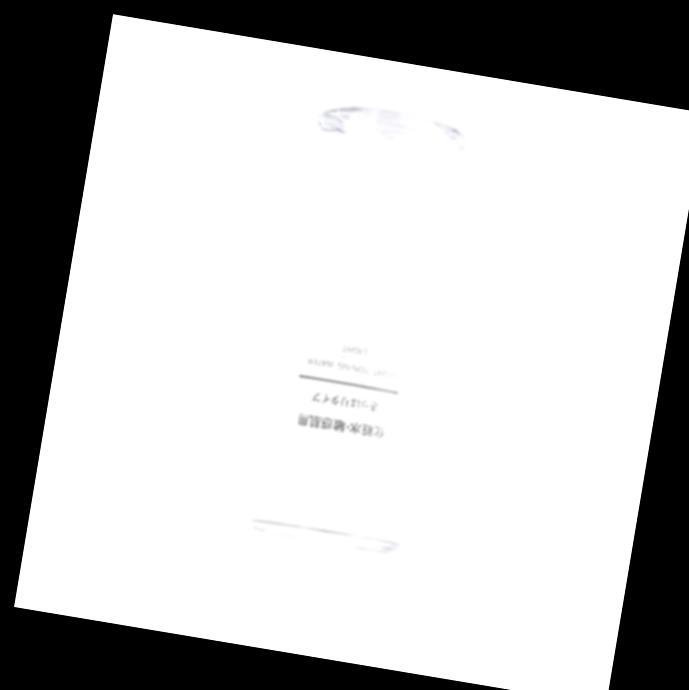cosmetic: (235, 103, 471, 615)
